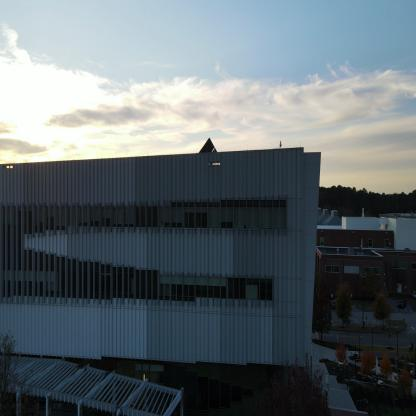Hunt Library: (0, 132, 337, 415)
